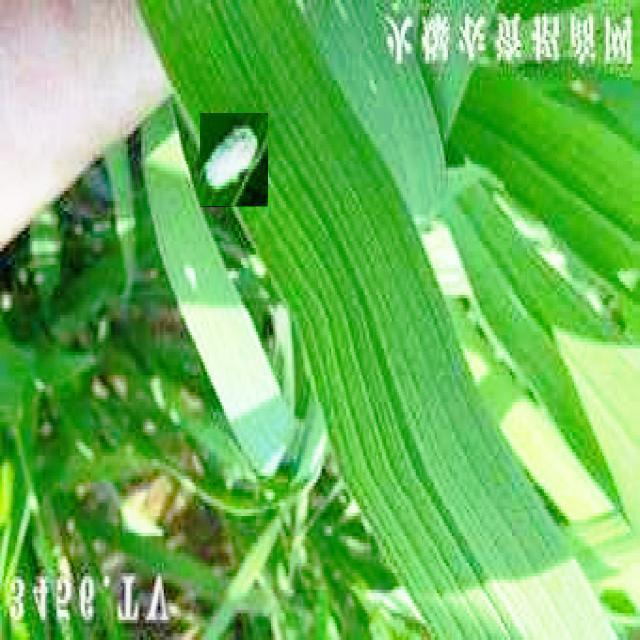whorl-maggot: (200, 114, 268, 208)
